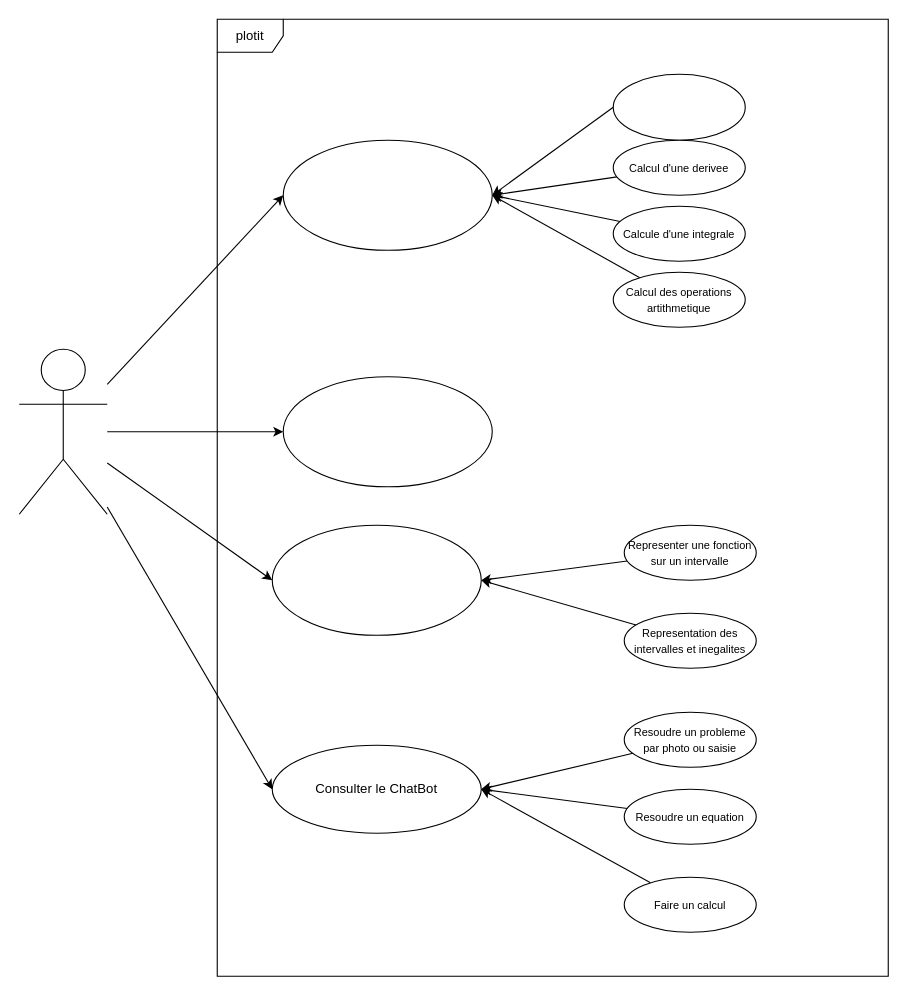
This 908x996 diagram has some shape labels left out. The shapes that lost their labels are listed below. From the top down, each one's centre as x and y in pixels, then its label:
the point at 678,106: Cacul d'une limite
the point at 387,194: Calcul des operations arithmetiques et scientifiques
the point at 62,431: Actor
the point at 387,431: Convertir des unites de grandeurs
the point at 376,579: Representer des elements mathematiques graphiquement
